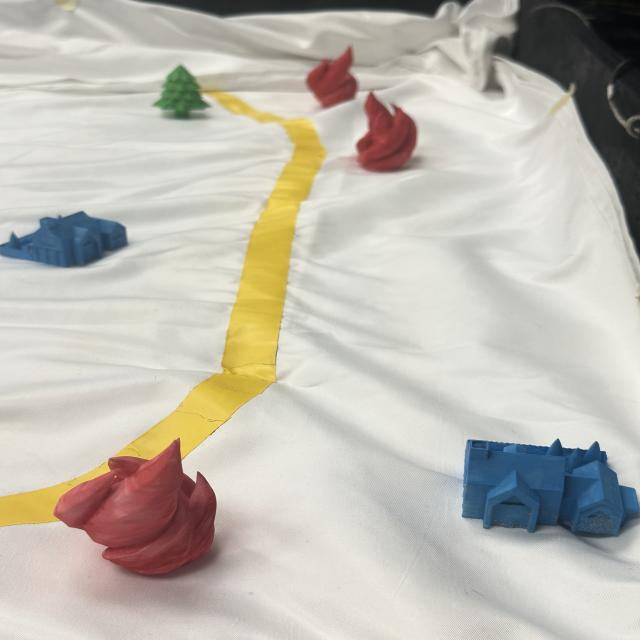fire: (51, 436, 220, 577), (358, 92, 419, 173), (298, 49, 363, 109)
house: (458, 435, 637, 538), (0, 210, 131, 268)
tree: (151, 62, 212, 120)
